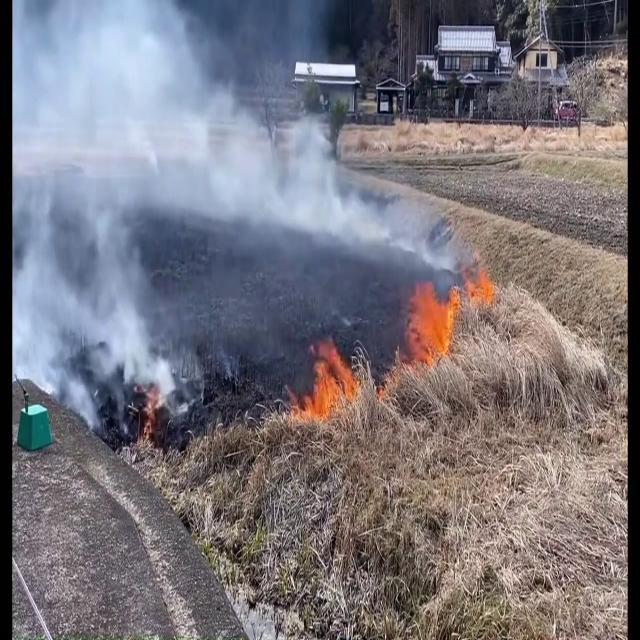Fire: (399, 260, 496, 372), (399, 271, 464, 372), (291, 342, 367, 428)
Smoke: (14, 0, 448, 265), (0, 142, 191, 441)
